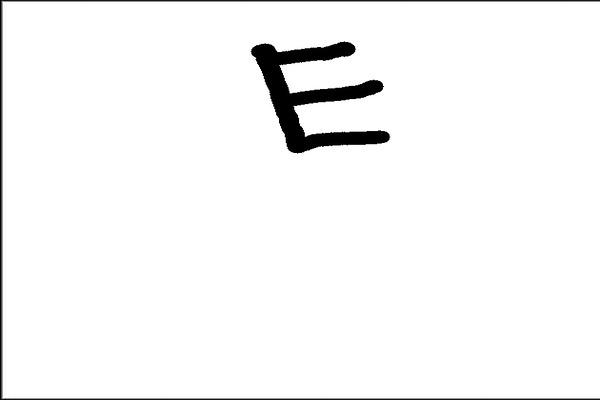E: (247, 37, 395, 157)
